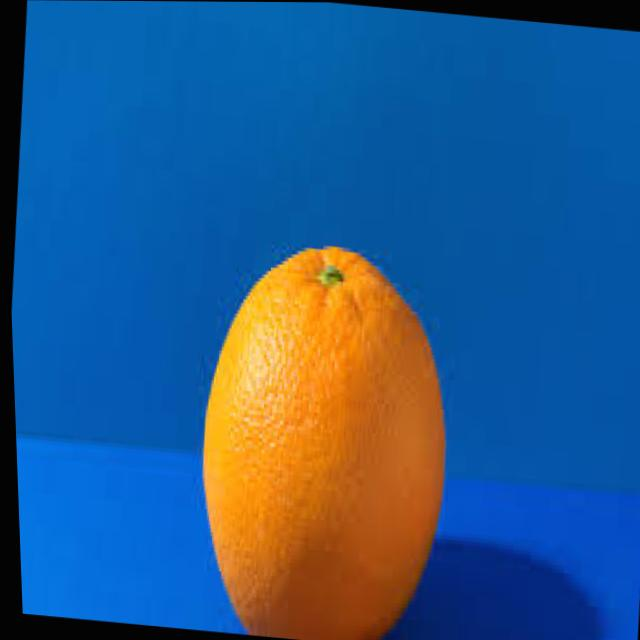orange: (171, 218, 469, 640)
